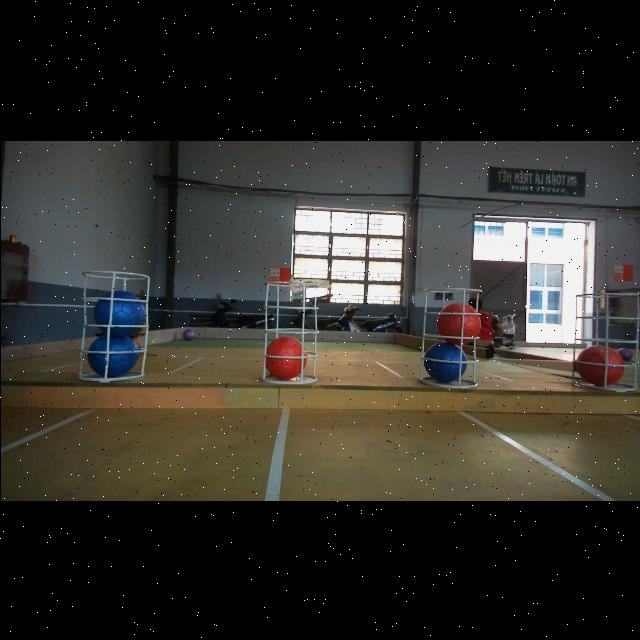B: (94, 291, 146, 335), (86, 332, 138, 376), (422, 341, 466, 382)
R: (575, 344, 623, 386), (436, 302, 480, 342), (264, 336, 304, 378)
